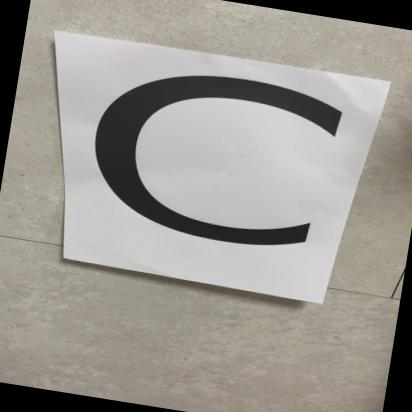seat: (20, 35, 361, 312), (22, 40, 362, 316)
